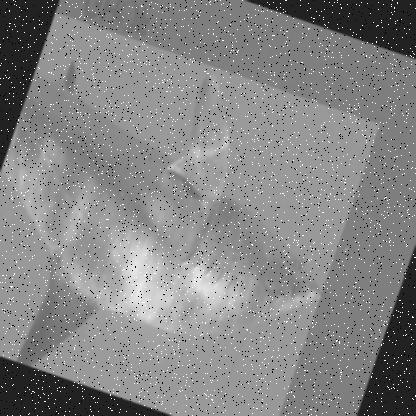mako-shark: (0, 11, 383, 415)
